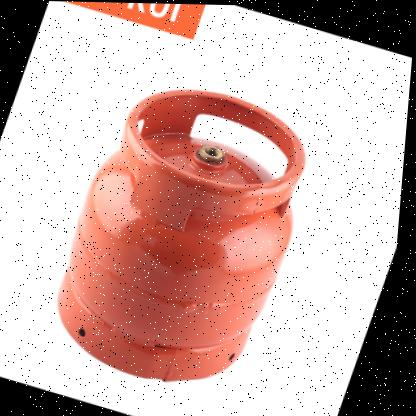gas-tank: (2, 36, 359, 415)
